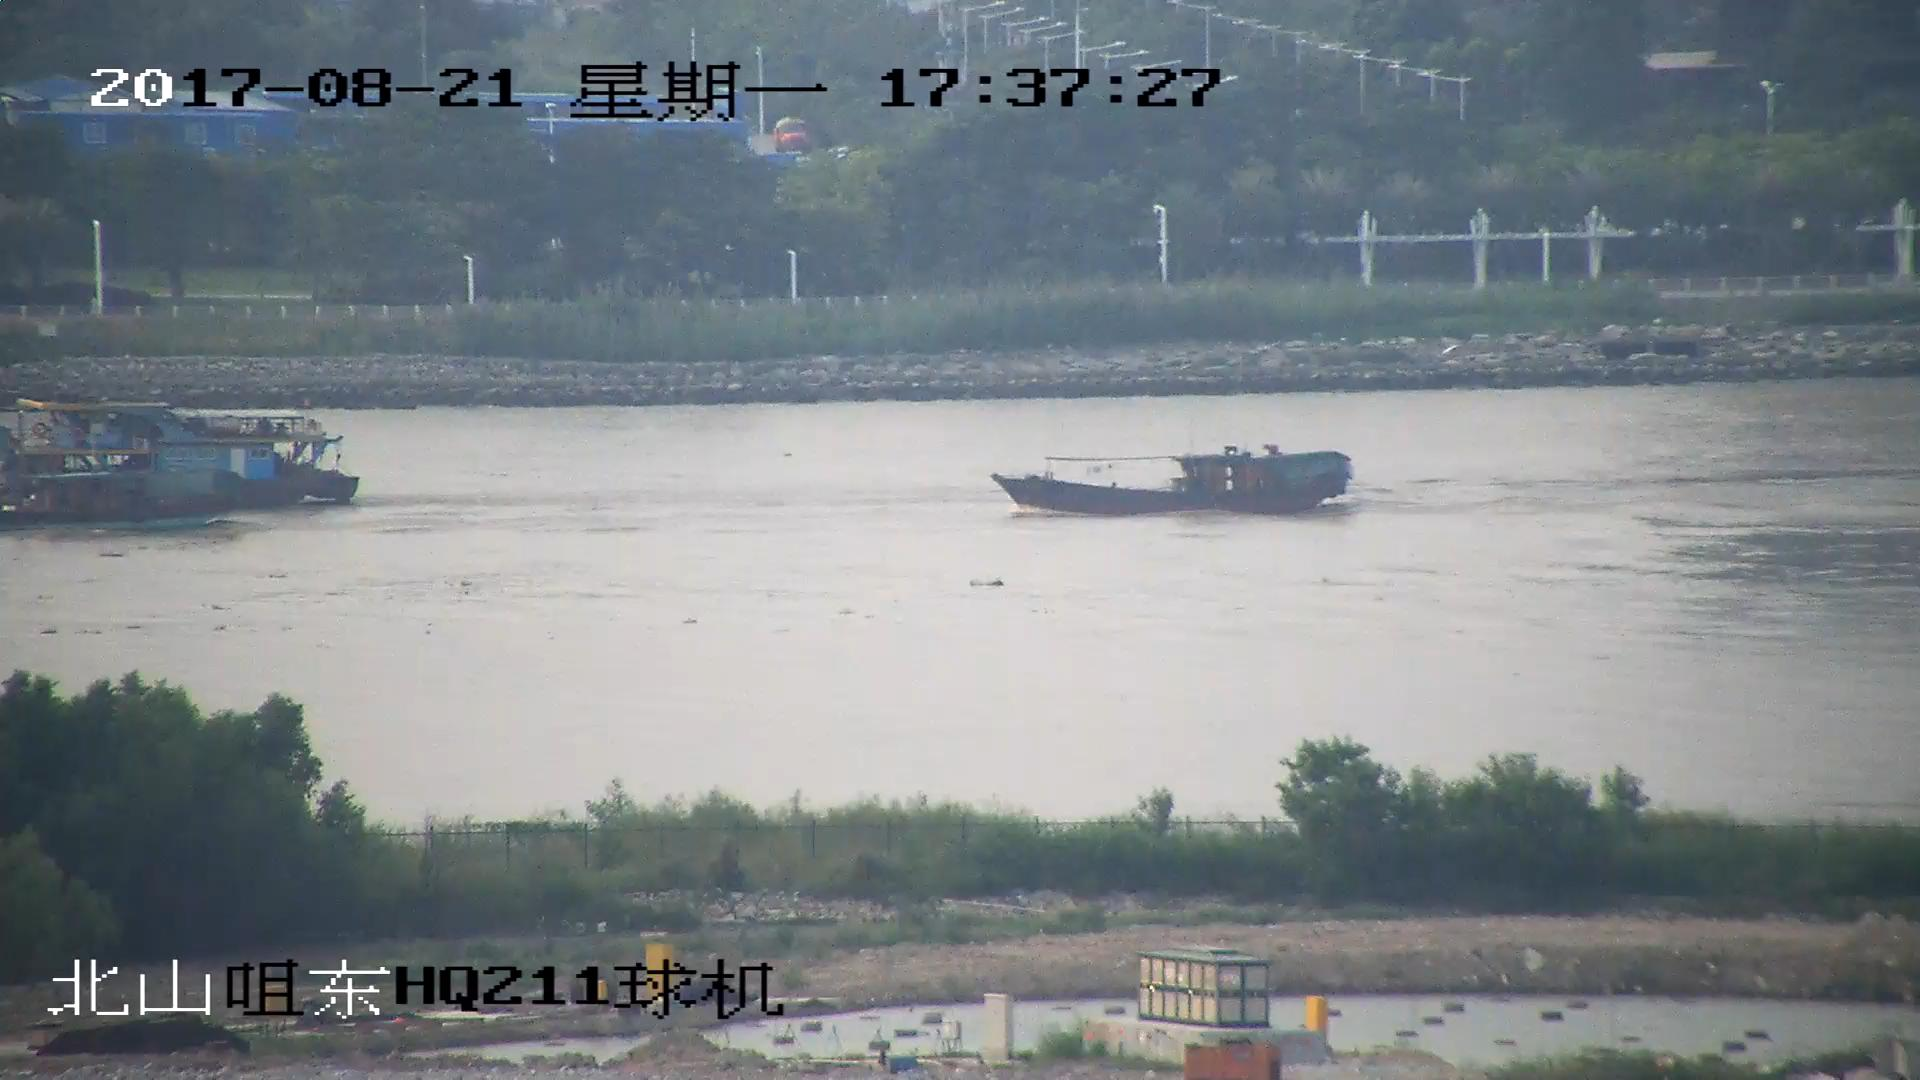fishing boat: (996, 445, 1352, 511), (1, 464, 232, 528)
